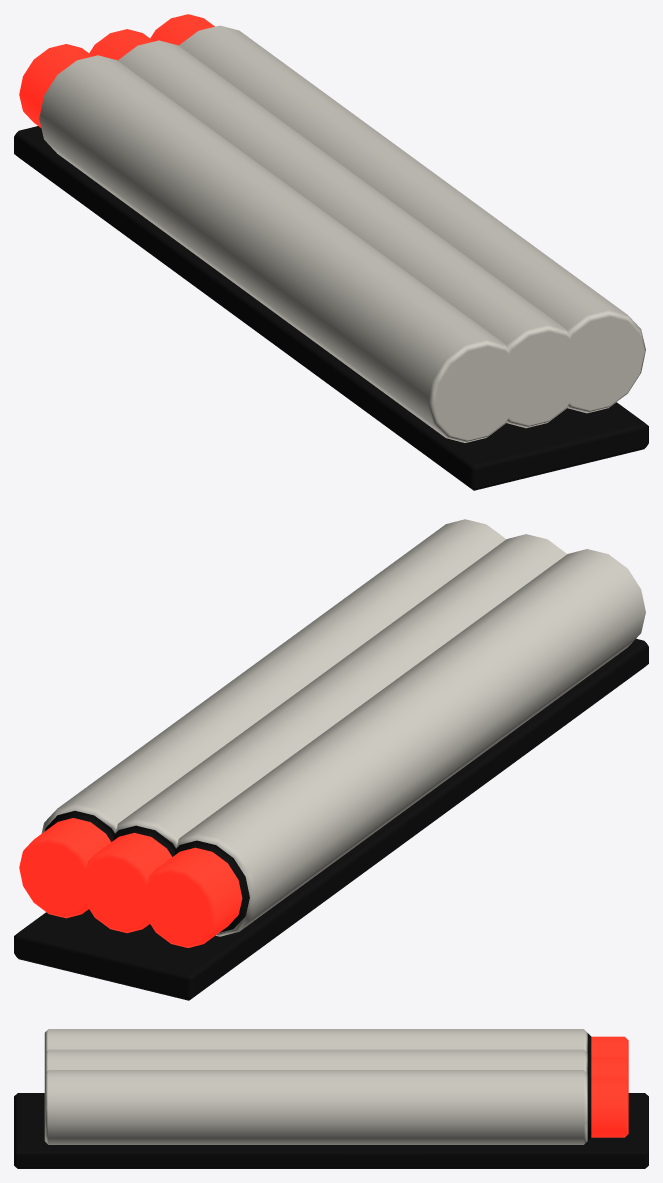
File: module_1_capacitor_bank.glb
The picture shows the model from 3 angles, top to bottom: view 1: azimuth 30°, elevation 25°; view 2: azimuth 150°, elevation 25°; view 3: azimuth 270°, elevation 25°; orthographic projection. The views are drawn at different scales.
Parts seen in each view (by area): view 1: module_1_capacitor_bank; view 2: module_1_capacitor_bank; view 3: module_1_capacitor_bank.
Part boxes in pixels (<box>): module_1_capacitor_bank: <box>14,14,648,490</box>; module_1_capacitor_bank: <box>14,519,648,1000</box>; module_1_capacitor_bank: <box>14,1029,648,1168</box>.
Bounding box in the file's own units: 0.034 × 0.0188 × 0.1243.
